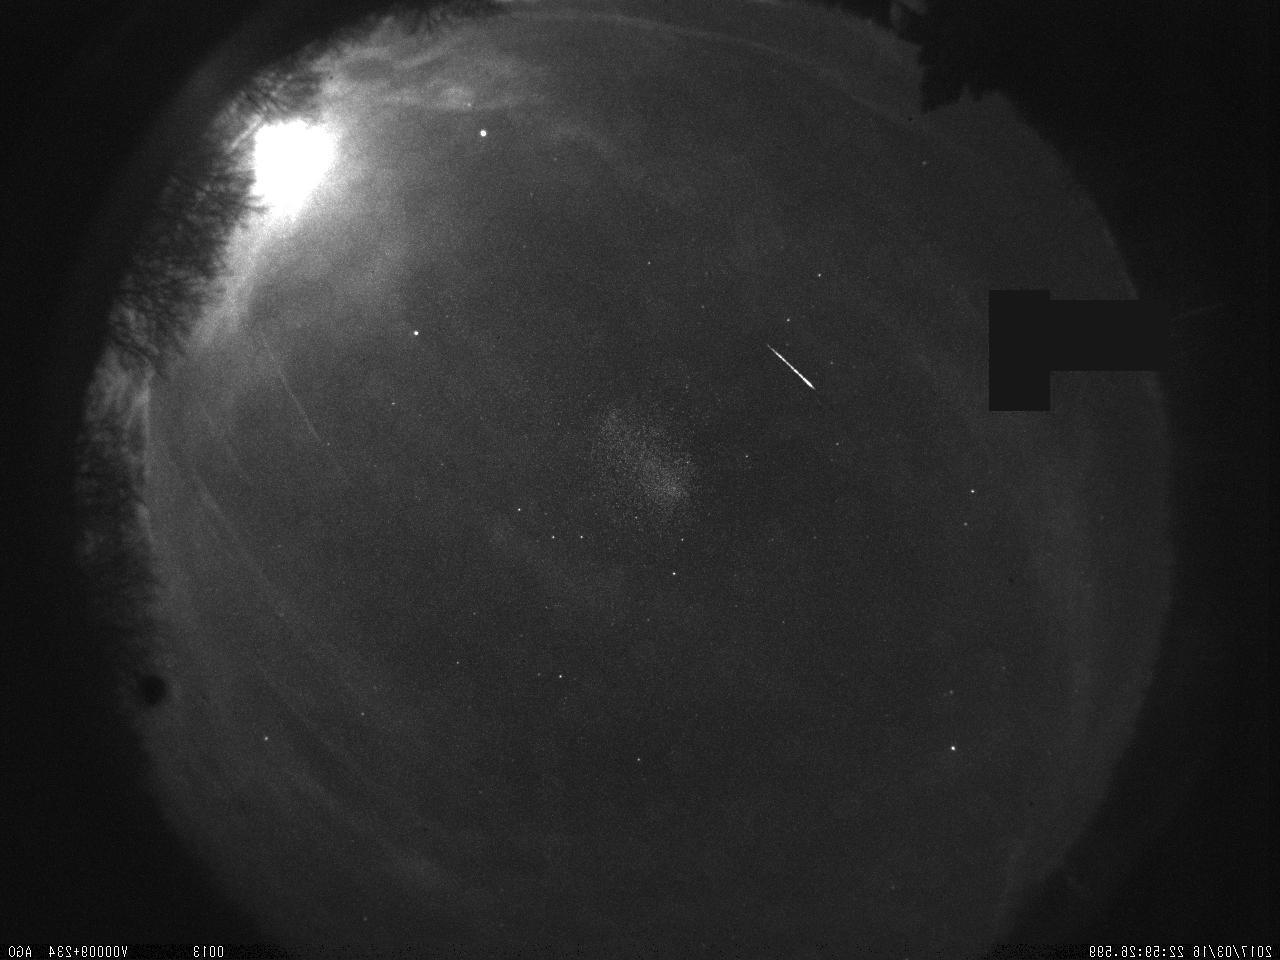meteor: (759, 335, 826, 399)
